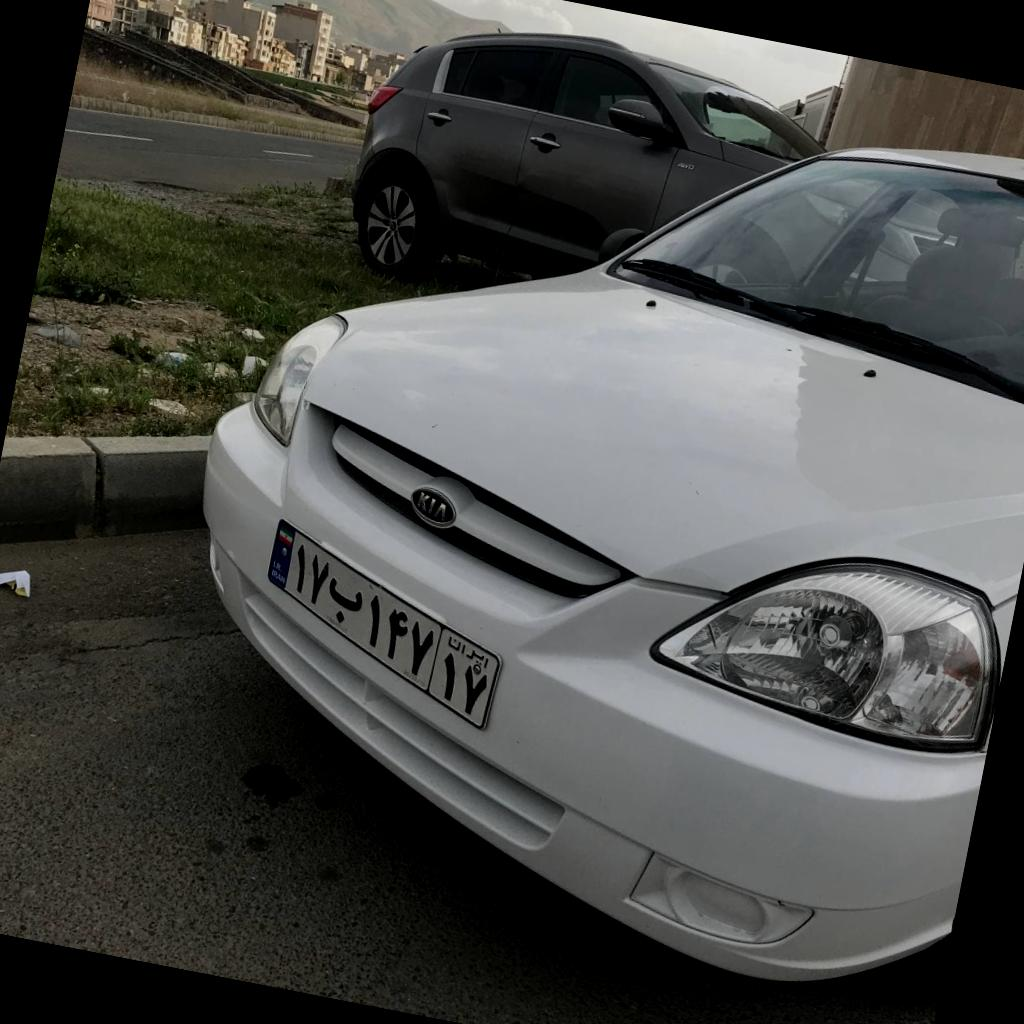Plates: (266, 519, 501, 730)
